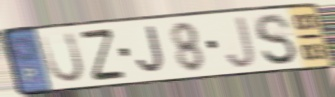8: (169, 19, 207, 74)
J: (224, 14, 257, 70), (135, 24, 168, 76)
S: (253, 11, 300, 67)
U: (37, 30, 87, 85)
Z: (77, 26, 128, 83)
